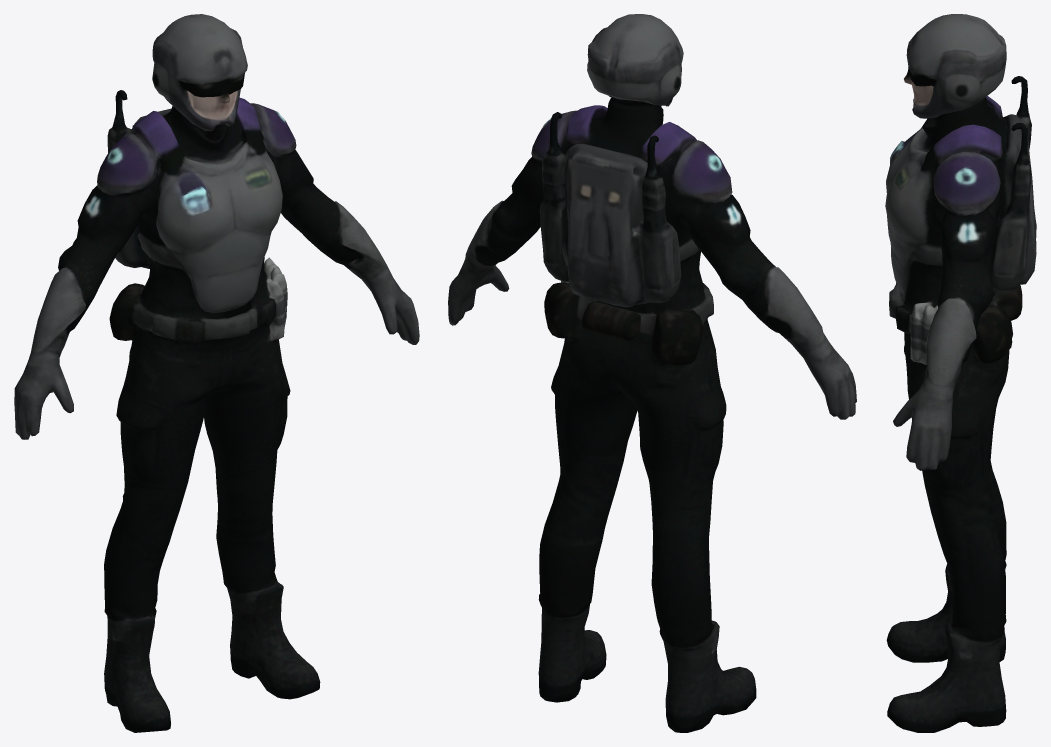
File: remedy_source.glb
3 renders of one model, left to right at view 1: azimuth 30°, elevation 25°; view 2: azimuth 150°, elevation 25°; view 3: azimuth 270°, elevation 25°, orthographic.
Parts seen in each view (by area): view 1: world; view 2: world; view 3: world.
Part boxes in pixels (box(x1,y1,x2,y2)): world: box(14, 14, 419, 732); world: box(448, 14, 856, 732); world: box(885, 14, 1036, 732).
Size of the model in its own units: 0.6176 by 1 by 0.2048.
1 material, 1 textured.
